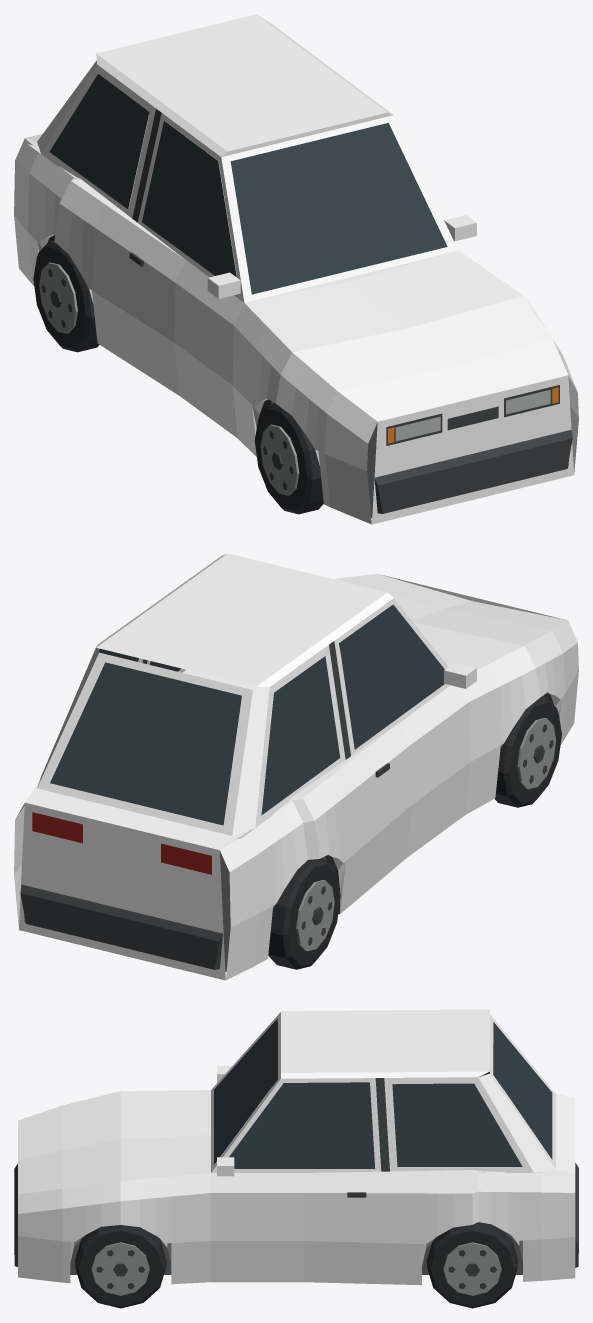
File: hartwig_lauf.glb
3 views of the same model, one above another, from view 1: azimuth 30°, elevation 25°; view 2: azimuth 150°, elevation 25°; view 3: azimuth 270°, elevation 25° (orthographic). The views are drawn at different scales.
Parts seen in each view (by area): view 1: hartwig_lauf; view 2: hartwig_lauf; view 3: hartwig_lauf.
Boxes of the visible parts, x1,y1,x2,y2 form: hartwig_lauf: (14,14,578,524); hartwig_lauf: (14,553,578,980); hartwig_lauf: (14,1009,578,1308).
Size of the model in its own units: 1.68 by 1.68 by 3.9.
Materials: 8 (1 with a texture image).
